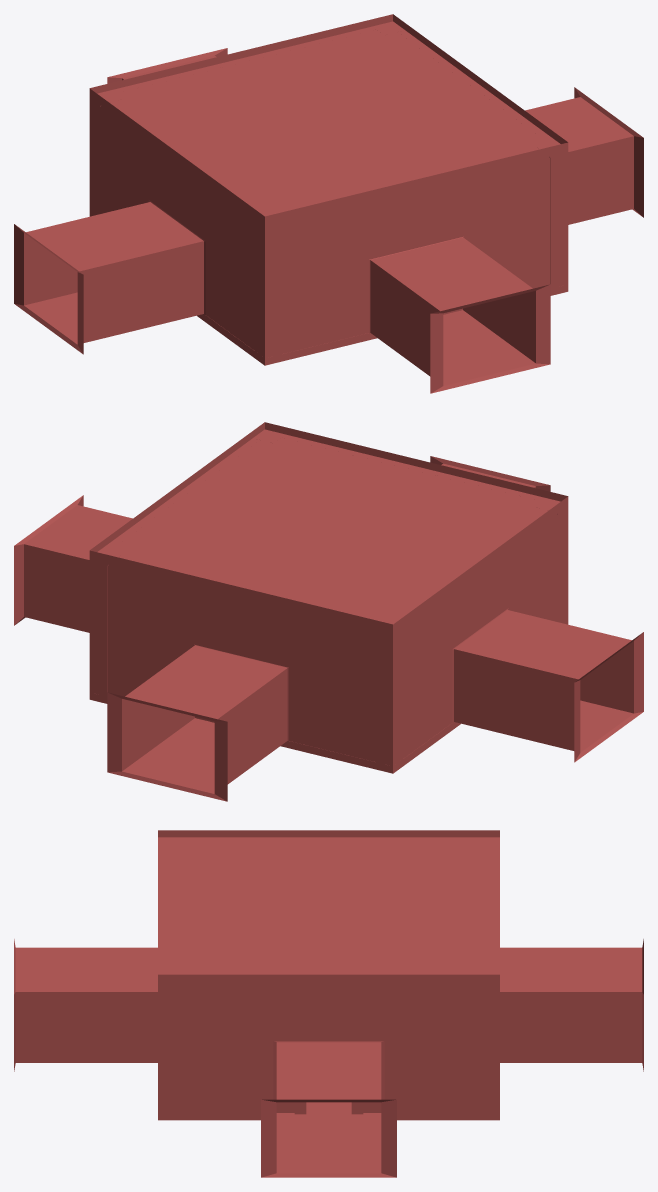
File: Room_Exit_2.fbx
3 renders of one model, top to bottom at view 1: azimuth 30°, elevation 25°; view 2: azimuth 150°, elevation 25°; view 3: azimuth 270°, elevation 25°, orthographic. The views are drawn at different scales.
Parts seen in each view (by area): view 1: Room_Exit_4_V3; view 2: Room_Exit_4_V3; view 3: Room_Exit_4_V3.
Part boxes in pixels (x1=…): Room_Exit_4_V3: x1=14, y1=14, x2=643, y2=393; Room_Exit_4_V3: x1=14, y1=422, x2=643, y2=801; Room_Exit_4_V3: x1=14, y1=830, x2=643, y2=1177.
Bounding box in the file's own units: 80559 × 20500 × 80435.
